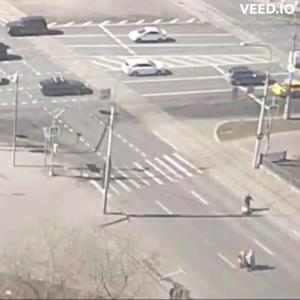car: (5, 18, 63, 39), (40, 77, 94, 99), (122, 59, 172, 79), (230, 68, 268, 88), (130, 28, 173, 45), (275, 79, 300, 102)
